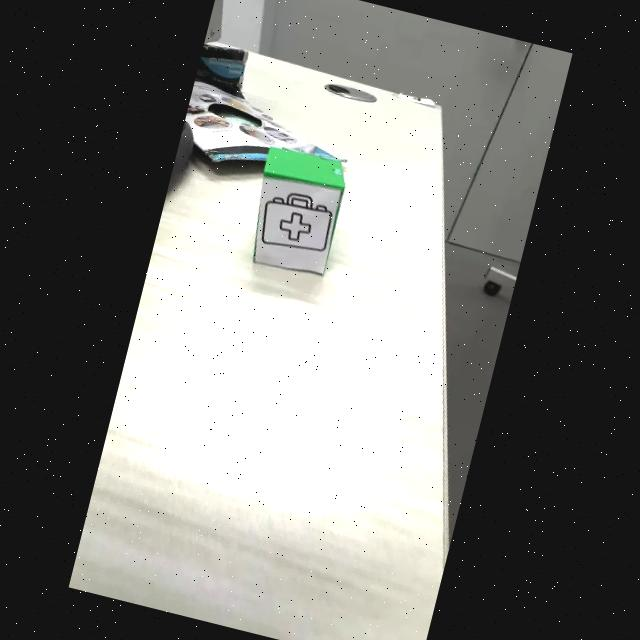Medkit: (260, 193, 331, 251)
